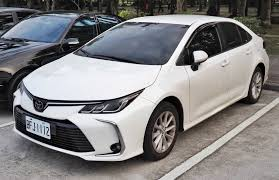LP: (24, 116, 51, 139)
